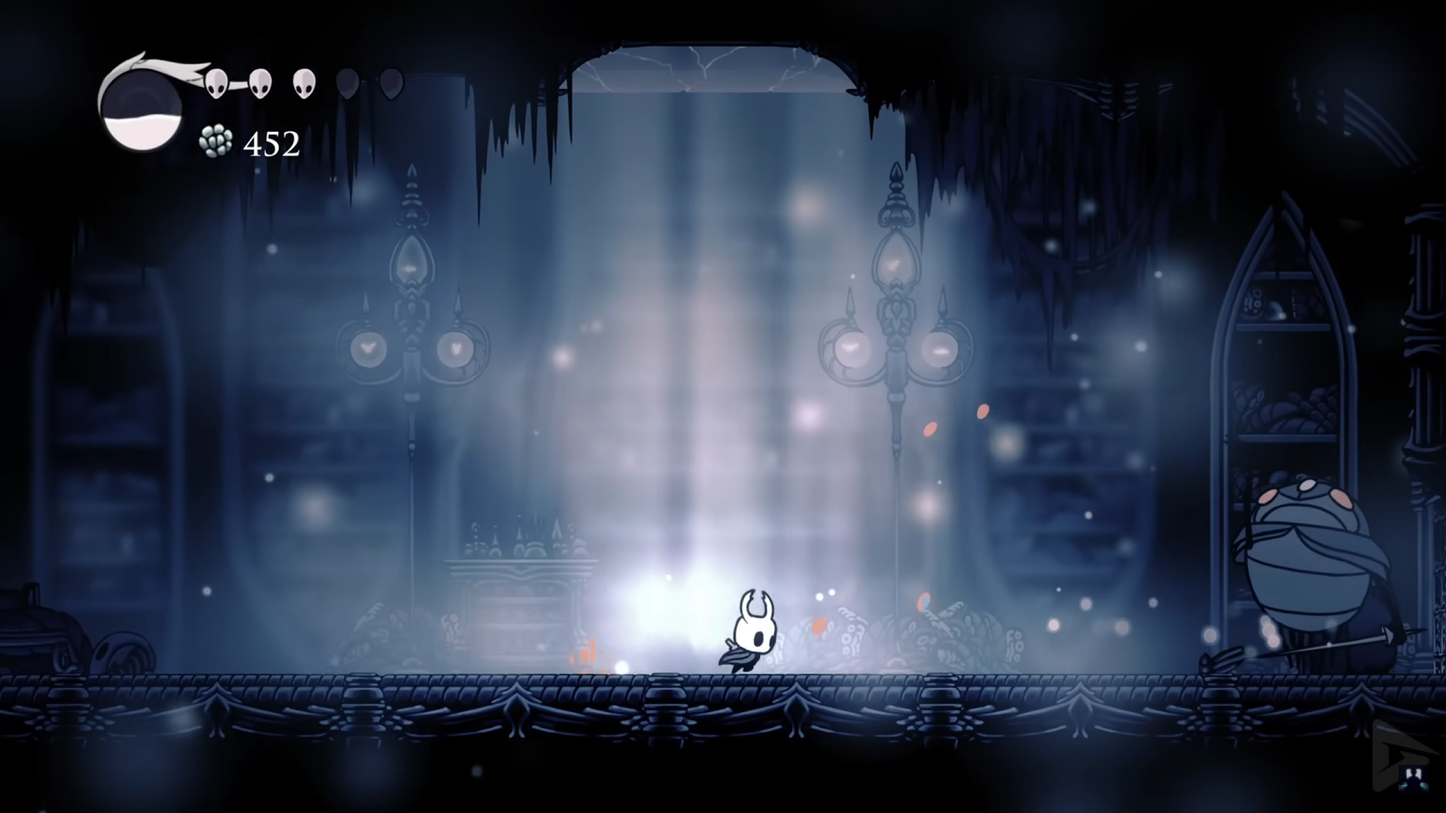HK: (718, 589, 783, 676)
